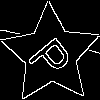P: (26, 29, 81, 83)
